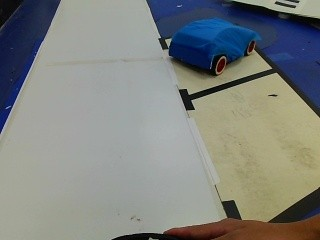car: (165, 20, 258, 78)
